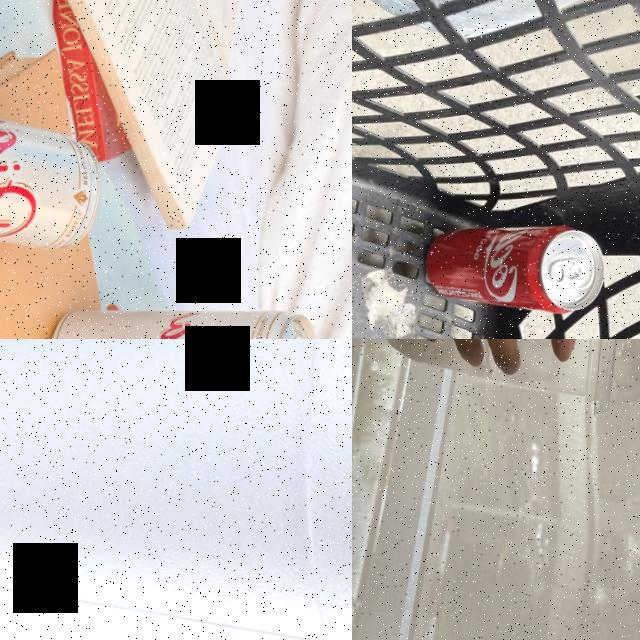can: (424, 225, 608, 316), (0, 89, 101, 250), (41, 305, 321, 339)
cup: (0, 339, 352, 640), (370, 339, 640, 418)
